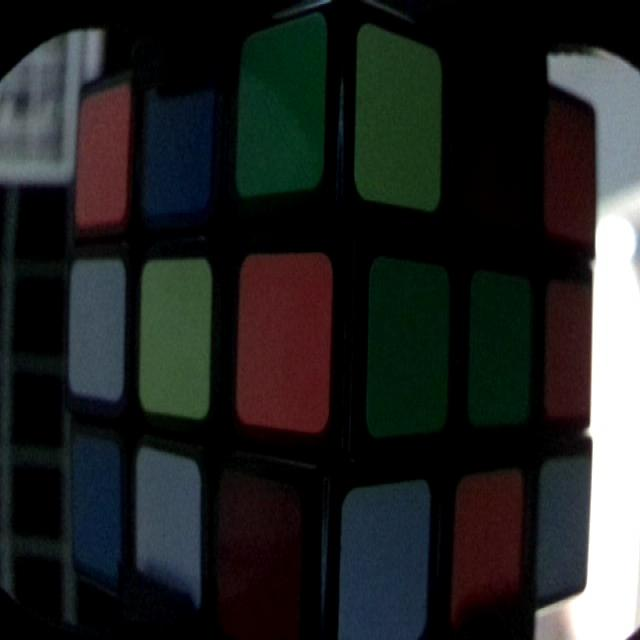b: (143, 76, 214, 216), (71, 439, 119, 579)
g: (372, 258, 446, 434), (244, 28, 322, 188), (472, 274, 529, 424)
o: (238, 251, 331, 436), (457, 473, 522, 617), (548, 102, 594, 239), (79, 89, 125, 223), (548, 282, 590, 411)
r: (224, 470, 301, 624), (464, 54, 524, 204)
w: (340, 486, 426, 640), (135, 447, 199, 602), (68, 261, 124, 397), (541, 462, 587, 599)
y: (360, 28, 441, 203), (142, 259, 211, 417)
